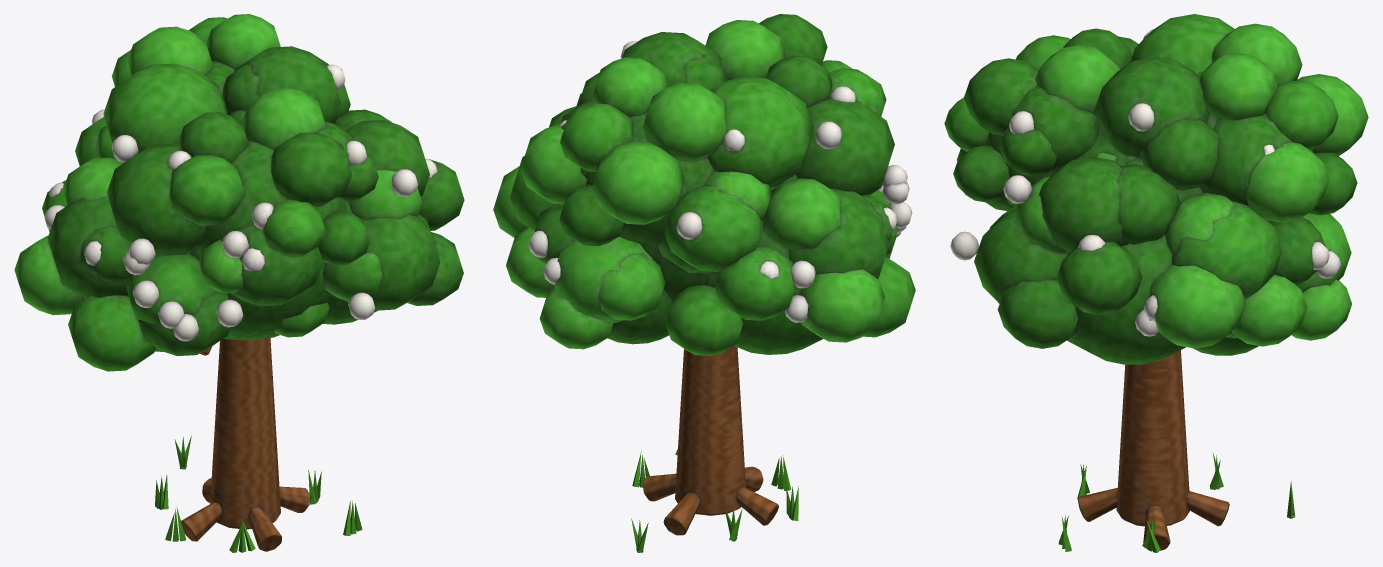
Rendered from nashi_tree.glb.
3 views of the same model, side by side, from view 1: azimuth 30°, elevation 25°; view 2: azimuth 150°, elevation 25°; view 3: azimuth 270°, elevation 25° (orthographic). The views are drawn at different scales.
Parts seen in each view (by area): view 1: crown, nashi_tree; view 2: crown, nashi_tree; view 3: crown, nashi_tree.
Boxes of the visible parts, x1,y1,x2,y2 form: crown: (14, 14, 464, 371); nashi_tree: (155, 338, 362, 552); crown: (493, 14, 915, 355); nashi_tree: (631, 345, 798, 552); crown: (944, 14, 1368, 364); nashi_tree: (1058, 350, 1295, 552).
Bounding box in the file's own units: 1.13 × 1.3 × 1.03.
1 material, 1 textured.
